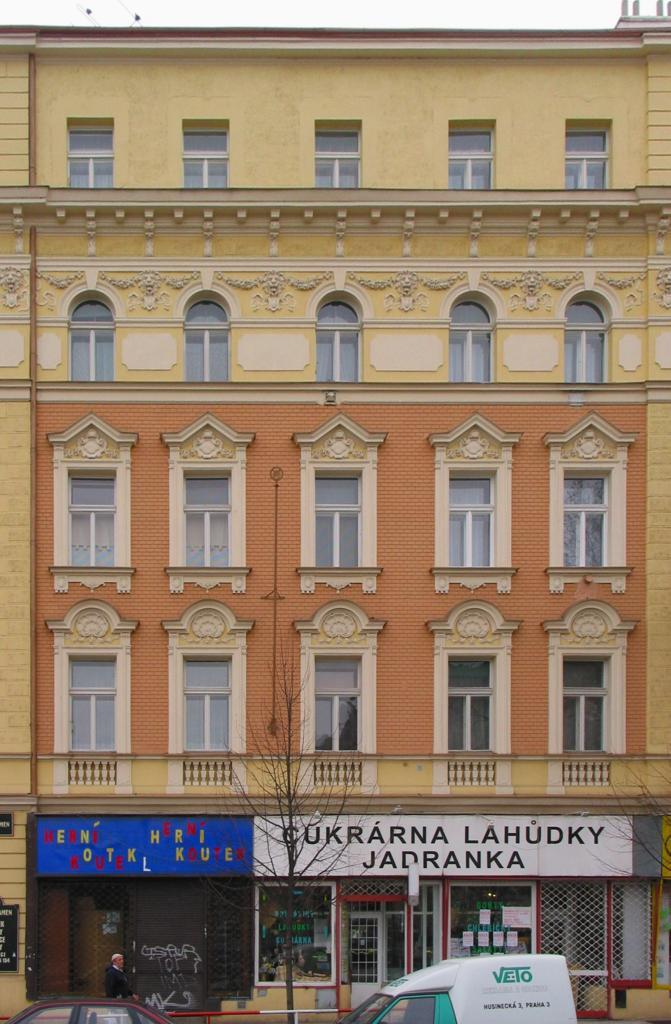window: (564, 652, 611, 753), (563, 467, 610, 568), (69, 654, 116, 753), (69, 467, 116, 566), (316, 467, 362, 568), (450, 467, 496, 568), (449, 654, 495, 754), (316, 653, 362, 753), (184, 654, 231, 751), (184, 467, 230, 566), (183, 290, 232, 381), (316, 290, 365, 381), (449, 292, 498, 383), (68, 290, 116, 381), (566, 290, 612, 383), (448, 120, 497, 190), (183, 119, 230, 189), (566, 119, 612, 190), (315, 120, 363, 188), (67, 118, 112, 188)
